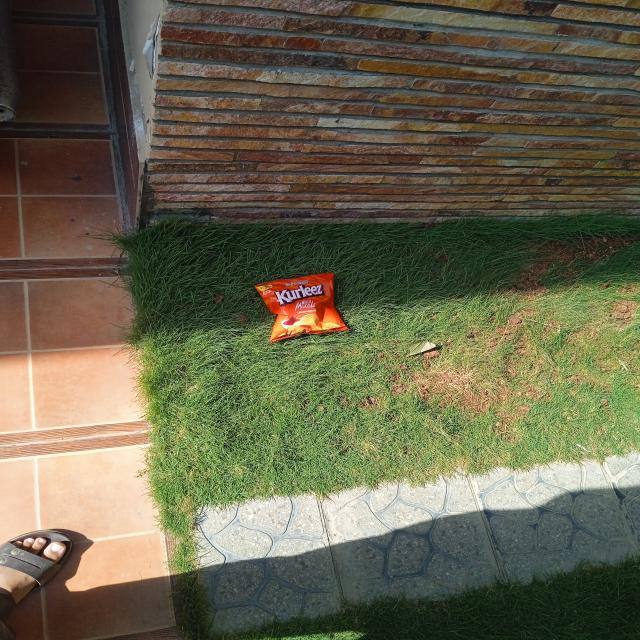Plastic: (253, 270, 349, 344)
